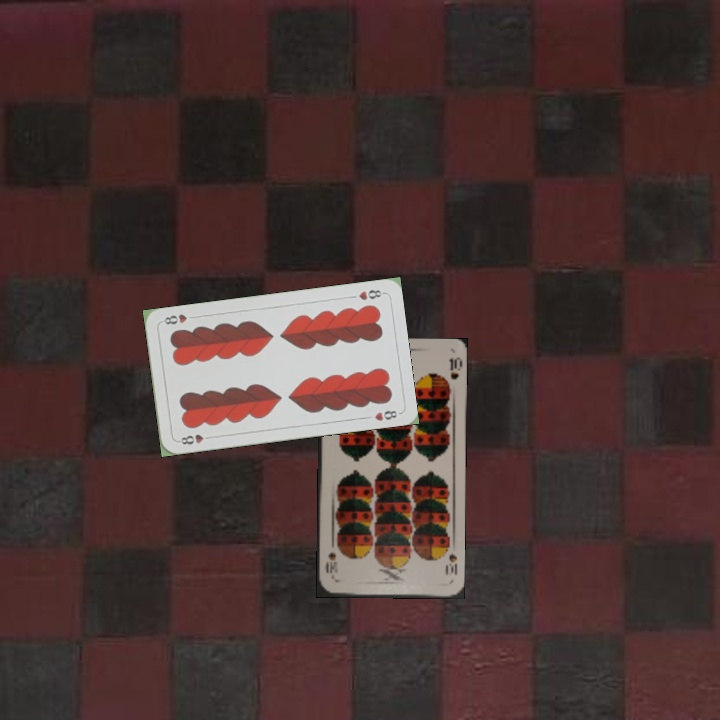H8: (174, 430, 215, 447), (355, 286, 386, 303)
S10: (441, 550, 460, 578)
